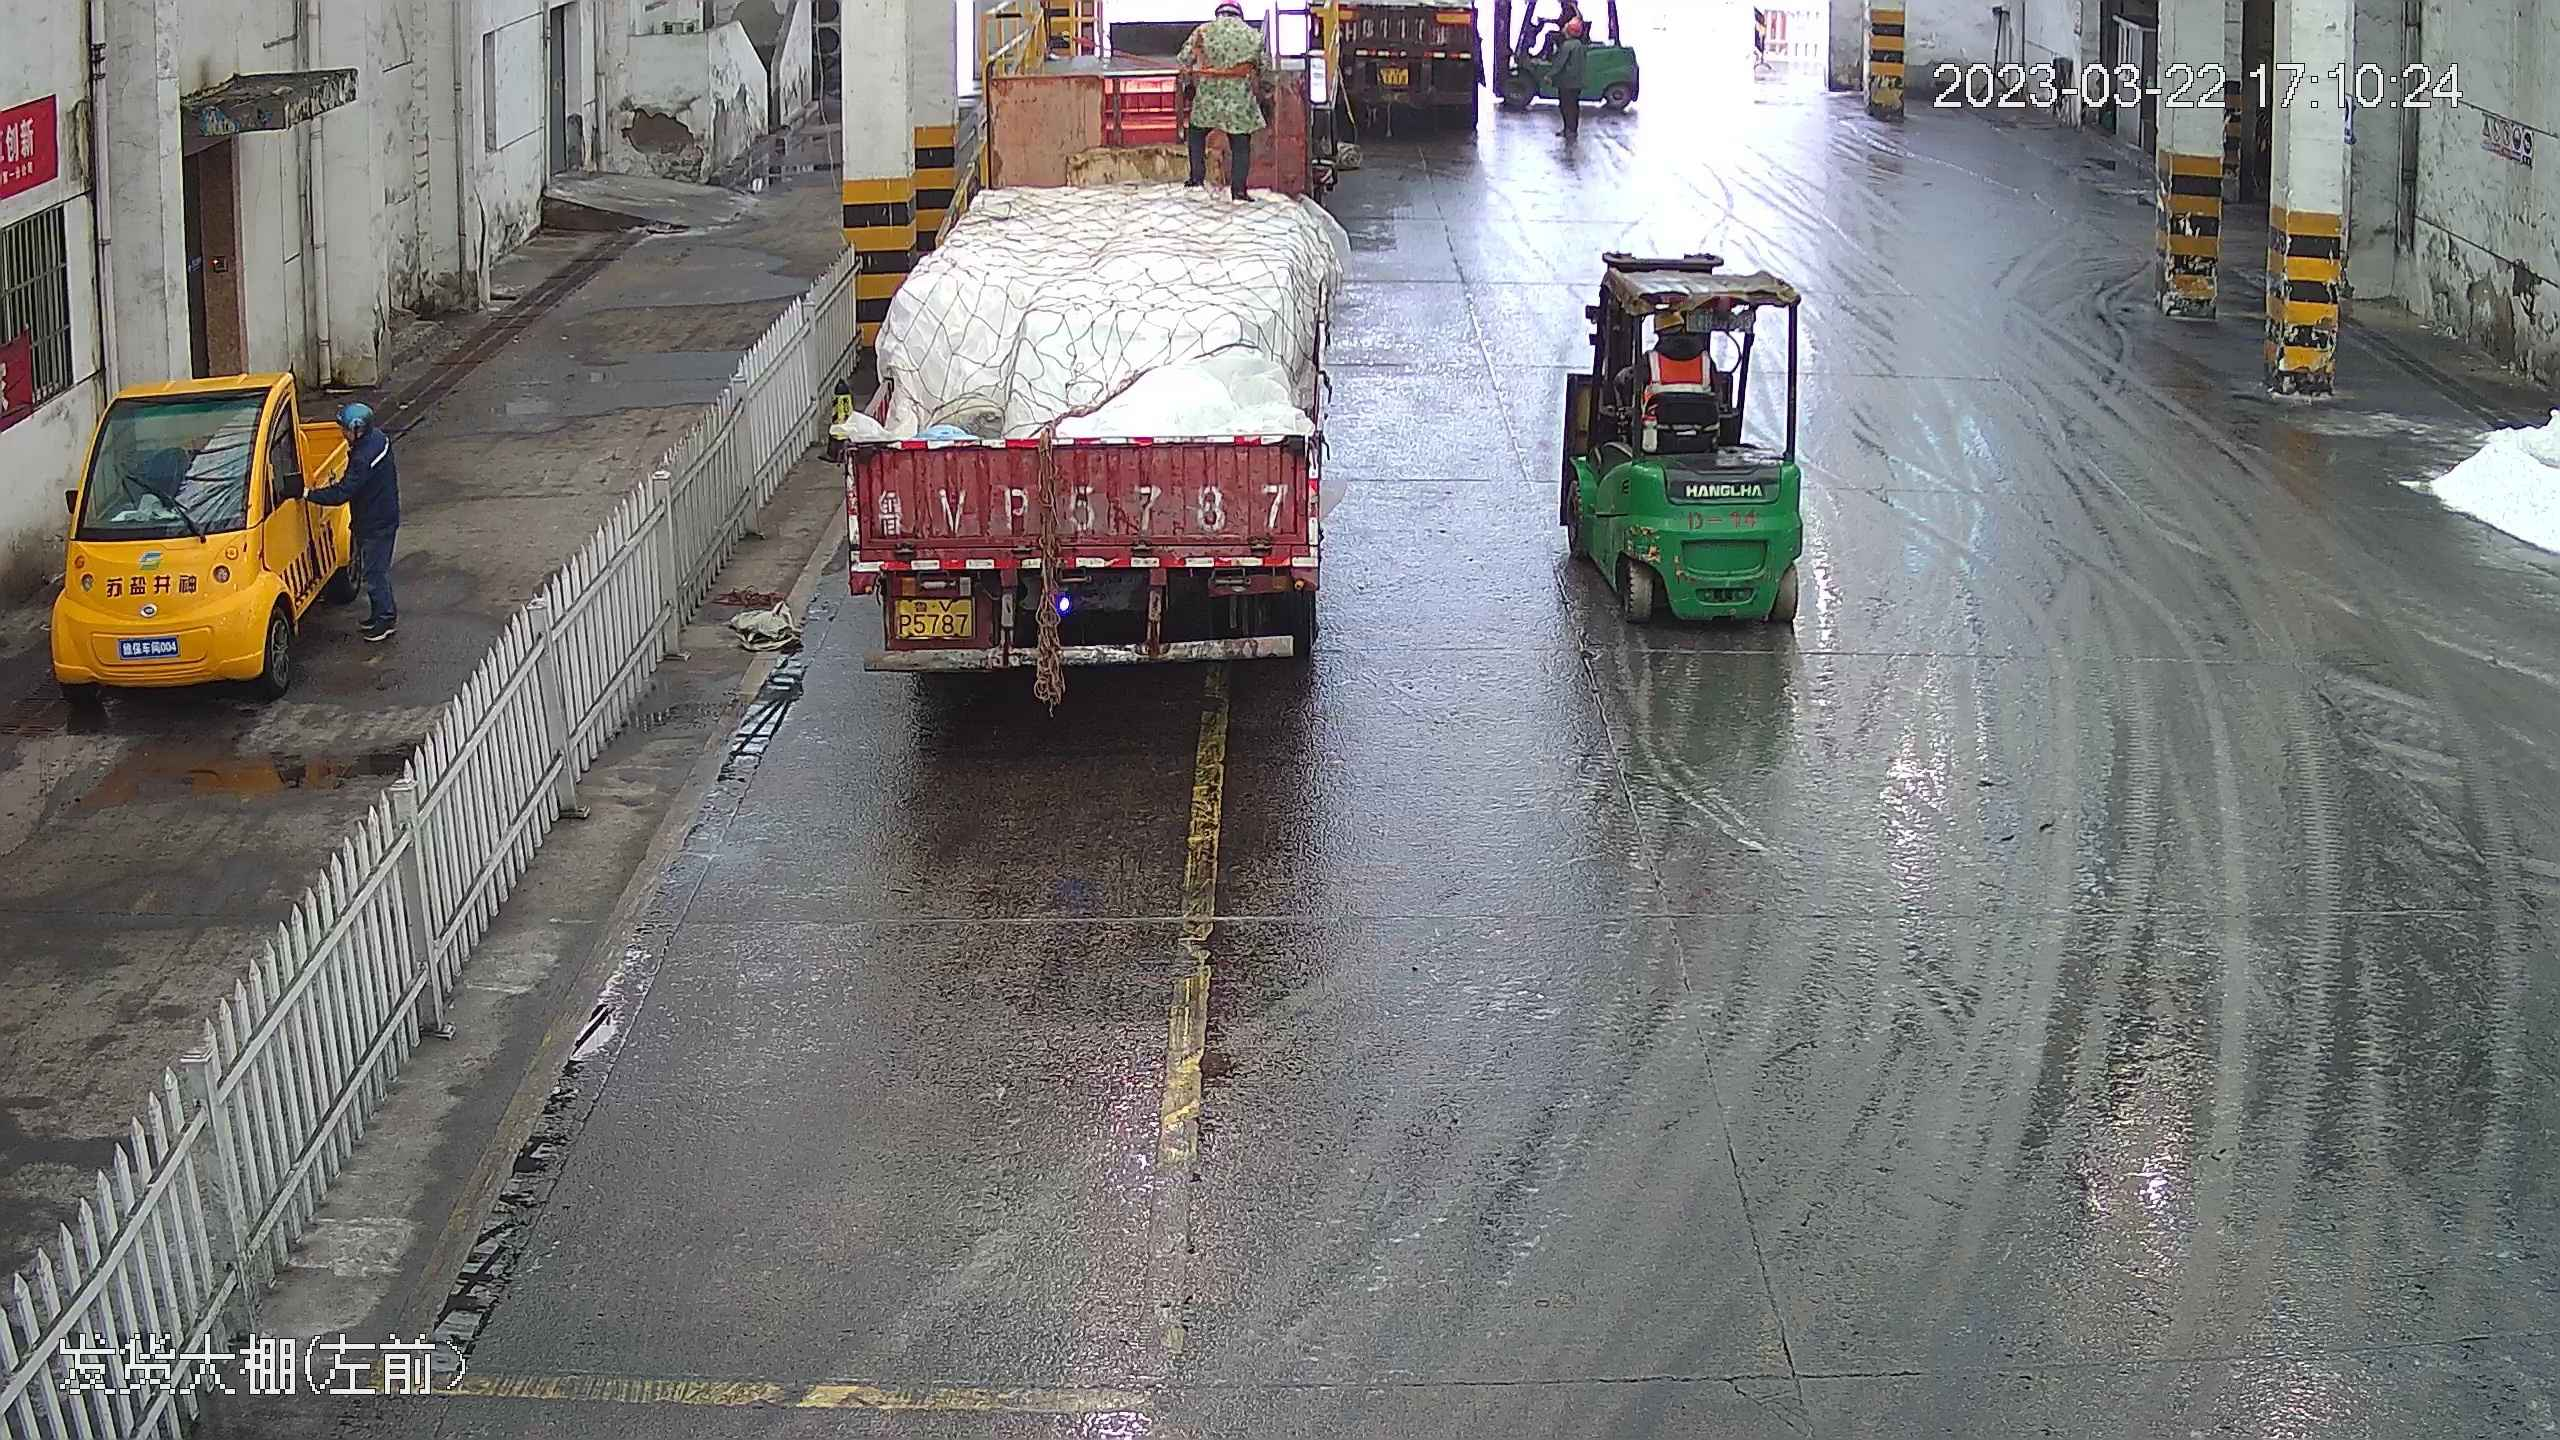belt: (1178, 18, 1233, 78)
head: (1646, 307, 1712, 383), (330, 395, 396, 472), (1196, 1, 1262, 59), (1555, 15, 1589, 63)
helmet: (340, 395, 378, 427), (1648, 306, 1683, 331), (1215, 1, 1245, 16), (1568, 17, 1584, 38)
people: (1169, 2, 1275, 200), (329, 394, 405, 637), (1550, 15, 1589, 138)
truck: (836, 20, 1344, 694)
